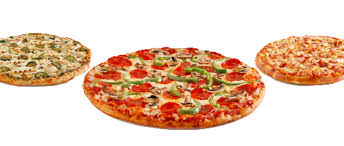pizza: (89, 48, 262, 134), (250, 27, 344, 94), (1, 34, 94, 97)
